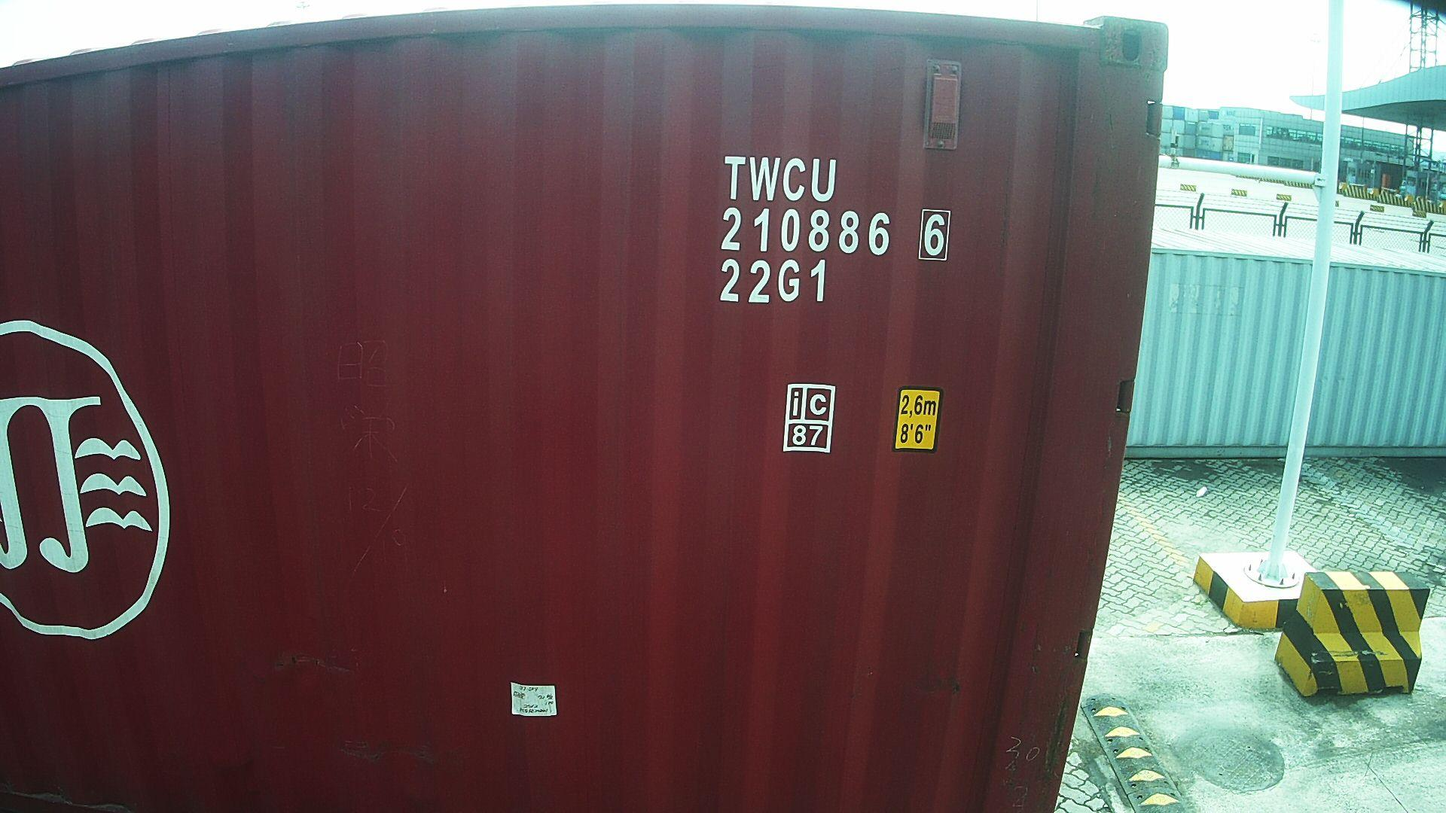container-numbers: (715, 205, 955, 264), (718, 152, 841, 206), (716, 256, 831, 307)
